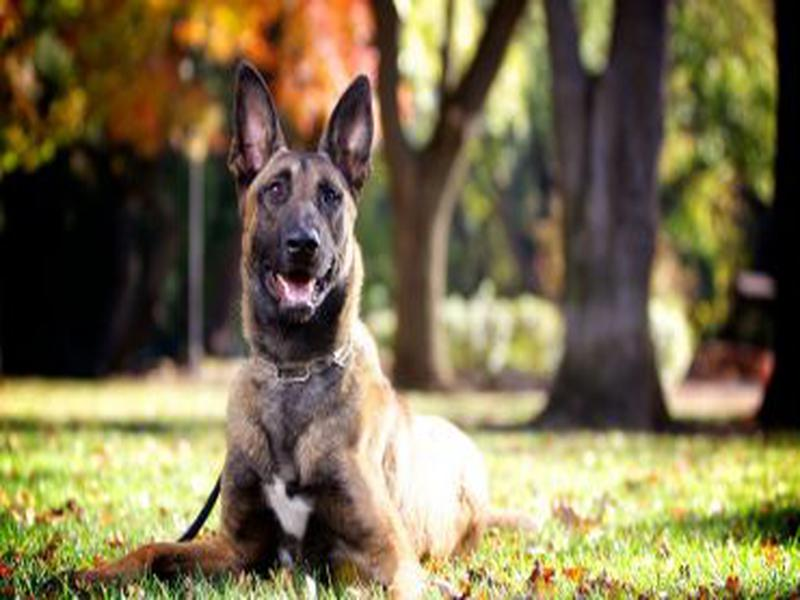dog_down: (72, 61, 539, 600)
